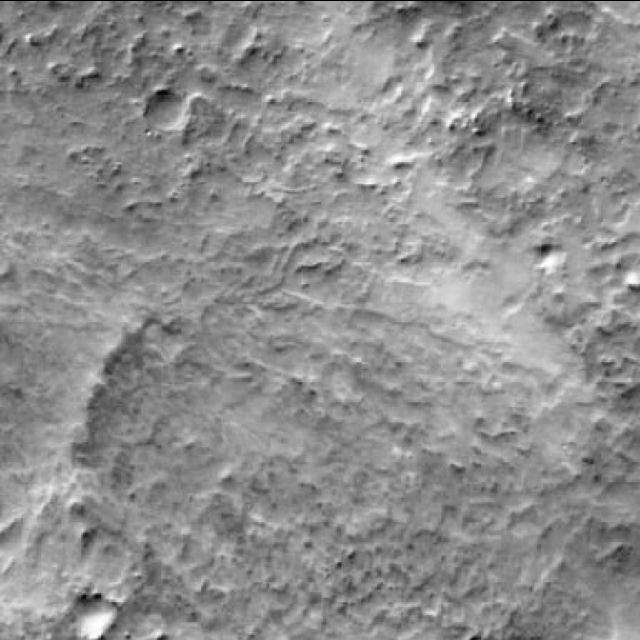crater: (147, 94, 191, 140), (75, 598, 119, 640), (542, 252, 564, 274)
